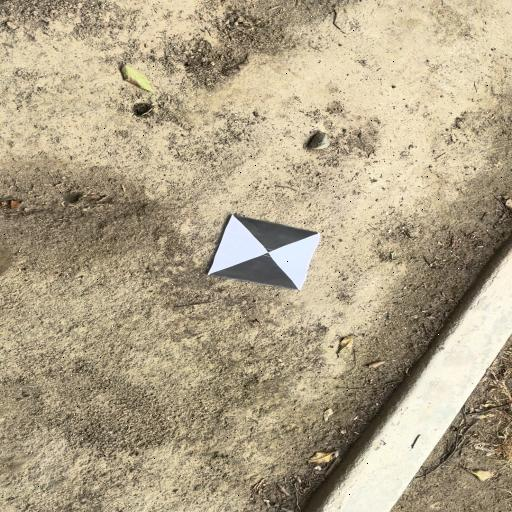target: (209, 214, 322, 289)
